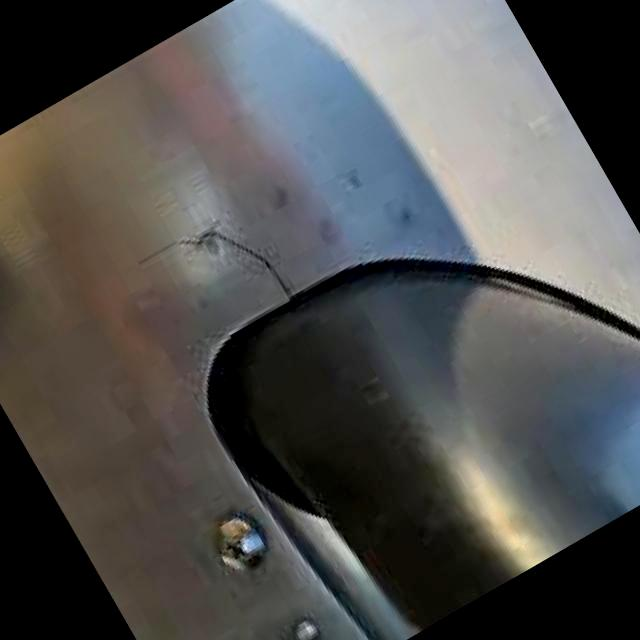defect: (132, 224, 298, 305)
